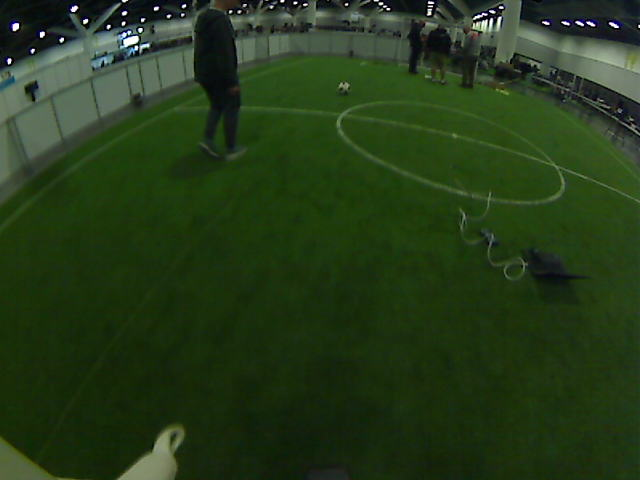ball: (327, 63, 367, 103)
goalpost: (392, 24, 407, 68), (472, 37, 481, 84)
